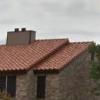Chimney: (4, 22, 42, 51)
